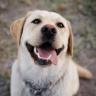dog: (10, 9, 94, 96)
